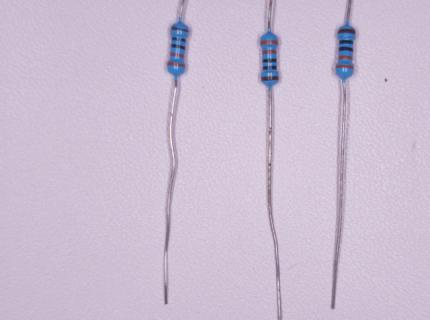Orange band: (167, 62, 185, 68), (336, 64, 353, 69), (170, 52, 184, 58), (338, 55, 353, 60), (262, 50, 277, 55), (260, 40, 278, 44)
